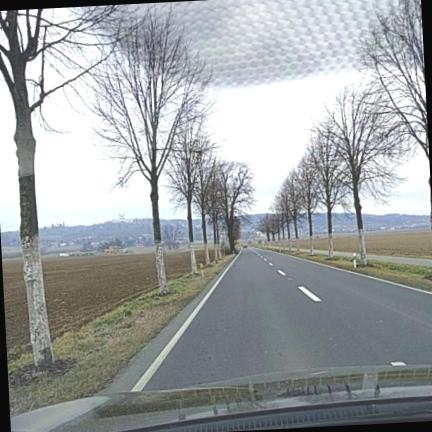Road: (145, 249, 431, 389)
